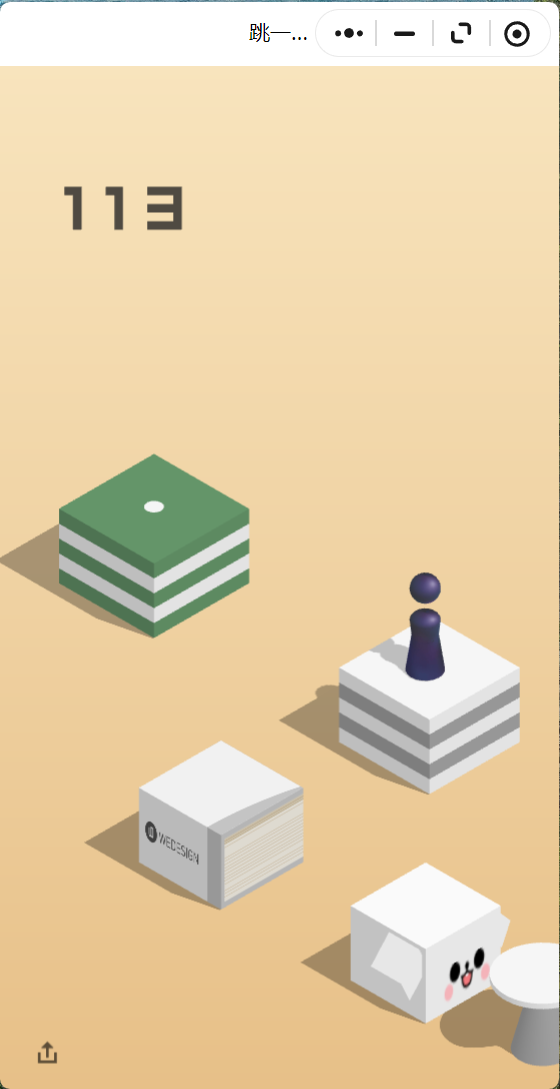piece: (410, 573, 441, 677)
target: (59, 453, 249, 564)
